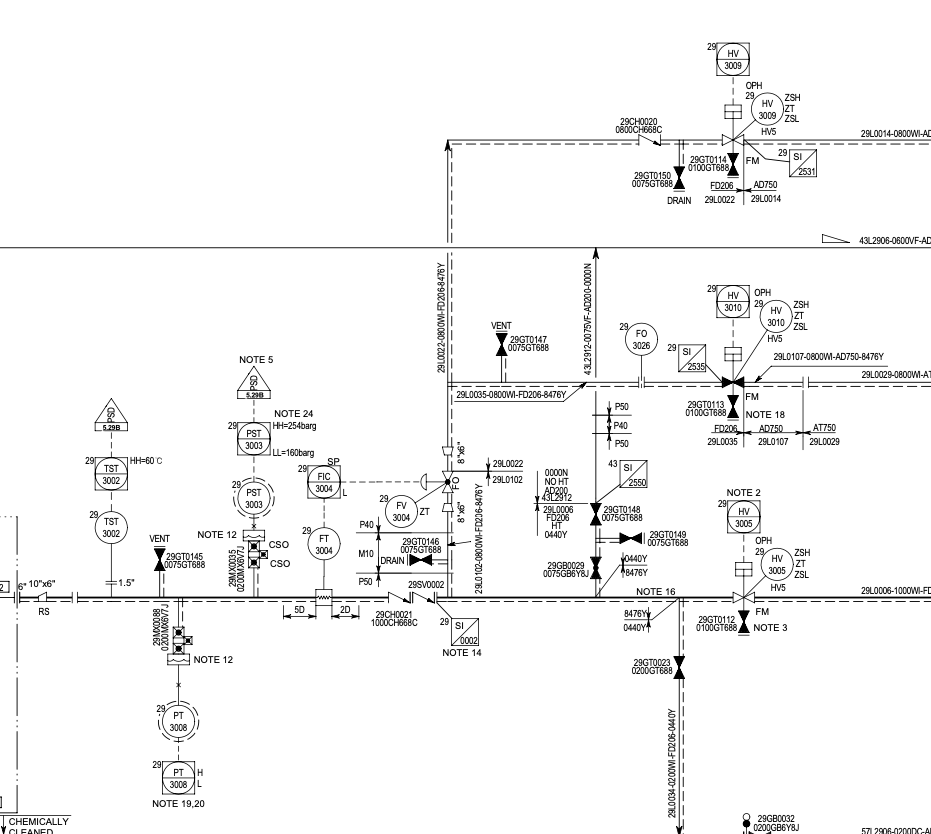Instrument: (84, 506, 132, 543), (745, 87, 786, 127), (378, 495, 423, 531), (617, 319, 659, 357), (295, 527, 343, 560), (751, 545, 796, 580), (755, 297, 792, 337), (230, 479, 272, 514), (155, 705, 196, 739)
Instrument-square: (295, 460, 342, 503), (707, 37, 755, 79), (82, 452, 131, 493), (714, 499, 767, 536), (705, 281, 754, 321), (226, 416, 271, 457), (152, 758, 196, 797)
